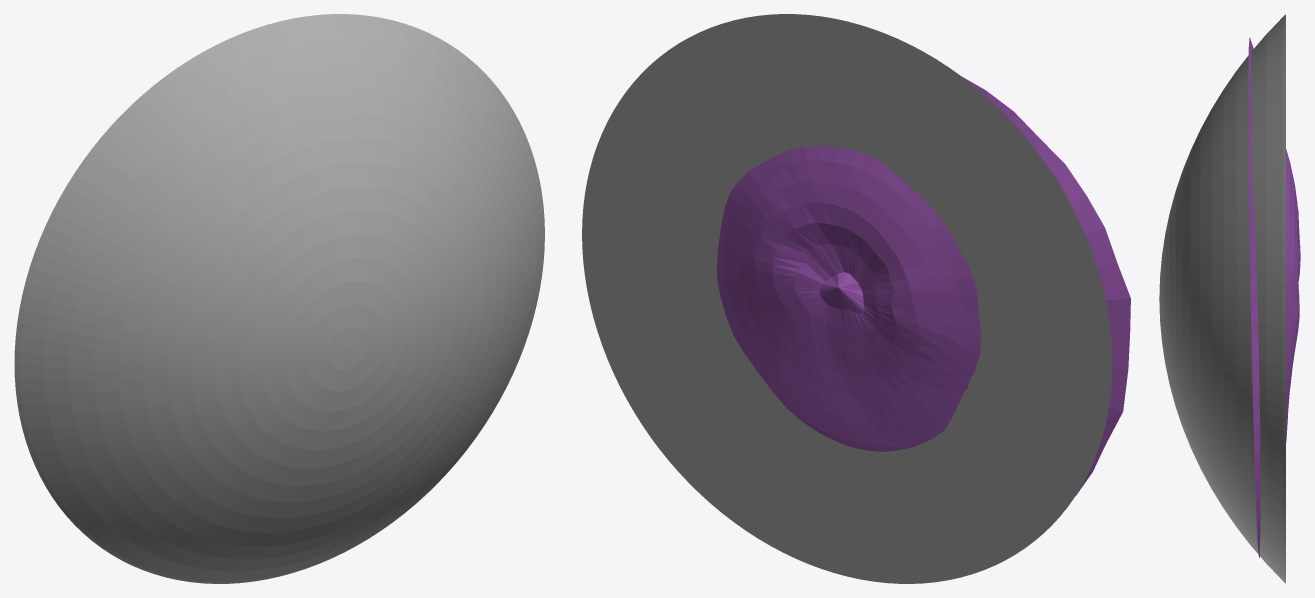
Rendered from G09_A2D_ALIGNED_GT.glb.
The picture shows the model from 3 angles, left to right: view 1: azimuth 30°, elevation 25°; view 2: azimuth 150°, elevation 25°; view 3: azimuth 270°, elevation 25°; orthographic projection. The views are drawn at different scales.
Visible parts, largest first — view 1: Independent_GT; view 2: Independent_GT, A2D; view 3: Independent_GT, A2D.
Boxes of the visible parts, bbox=[...] form: Independent_GT: bbox=[14, 14, 544, 583]; Independent_GT: bbox=[582, 14, 1112, 583]; A2D: bbox=[717, 77, 1130, 495]; Independent_GT: bbox=[1159, 14, 1285, 583]; A2D: bbox=[1248, 37, 1300, 557].
Bounding box in the file's own units: 0.00451 × 0.0045 × 0.00111.
